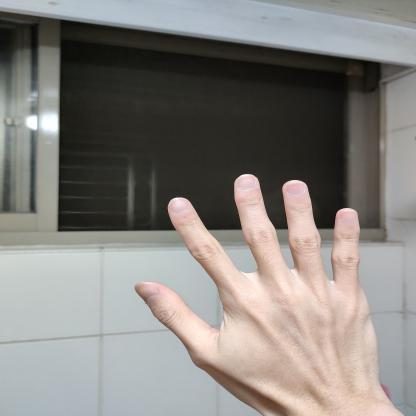bare_hand: (133, 163, 396, 416)
